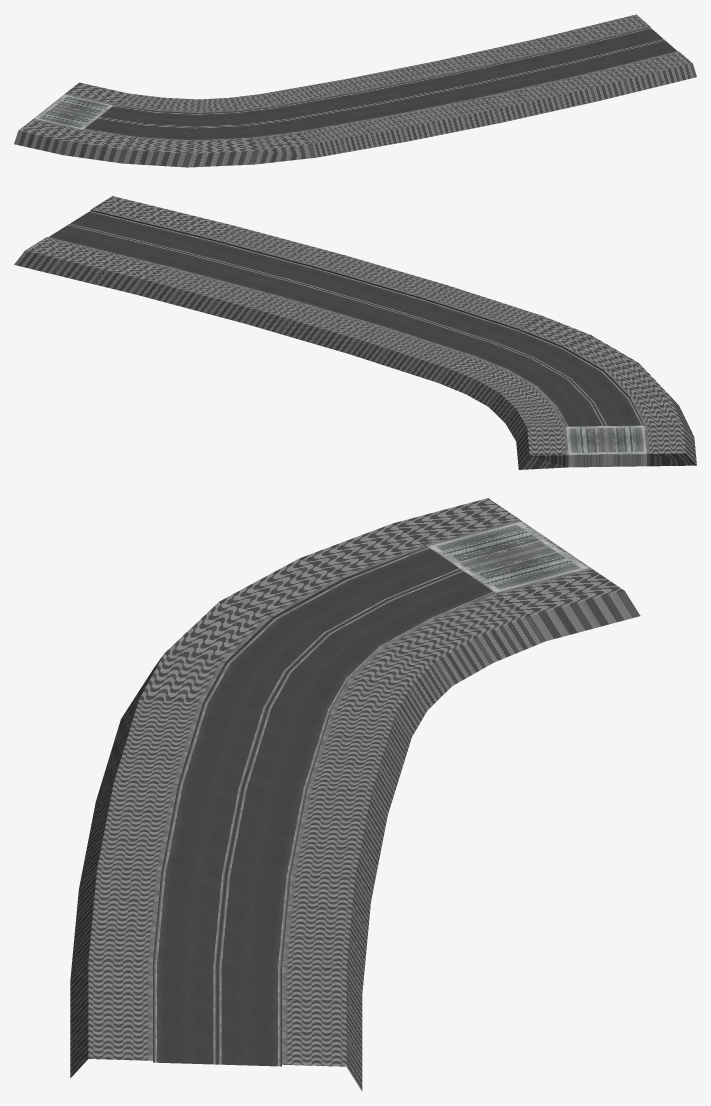
Rendered from roadssfs34.obj.
3 renders of one model, top to bottom at view 1: azimuth 30°, elevation 25°; view 2: azimuth 150°, elevation 25°; view 3: azimuth 270°, elevation 25°, orthographic. The views are drawn at different scales.
Parts seen in each view (by area): view 1: ROADSsfs34; view 2: ROADSsfs34; view 3: ROADSsfs34.
Part boxes in pixels (x1,y1,x2,y2): ROADSsfs34: (14,14,696,167); ROADSsfs34: (14,196,696,469); ROADSsfs34: (70,498,640,1091).
Size of the model in its own units: 106 by 1.72 by 44.09.
Materials: 3 (3 with a texture image).
